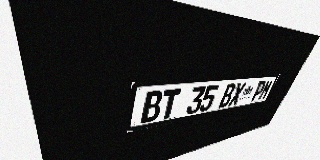3: (185, 86, 207, 115)
5: (199, 85, 219, 112)
B: (141, 90, 164, 124), (218, 83, 237, 108)
M: (257, 80, 274, 100)
P: (250, 80, 267, 102)
T: (159, 88, 181, 120)
X: (228, 82, 247, 106)
